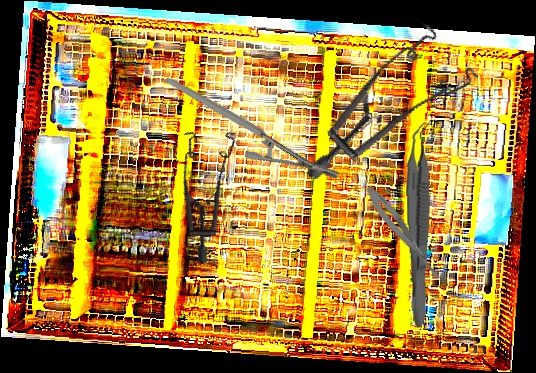Micro Scissor: (361, 182, 448, 285)
Needle Holder: (163, 32, 344, 223)
Speculum: (304, 2, 491, 222), (147, 114, 279, 266)
Tissue Forceps: (403, 122, 439, 327)
